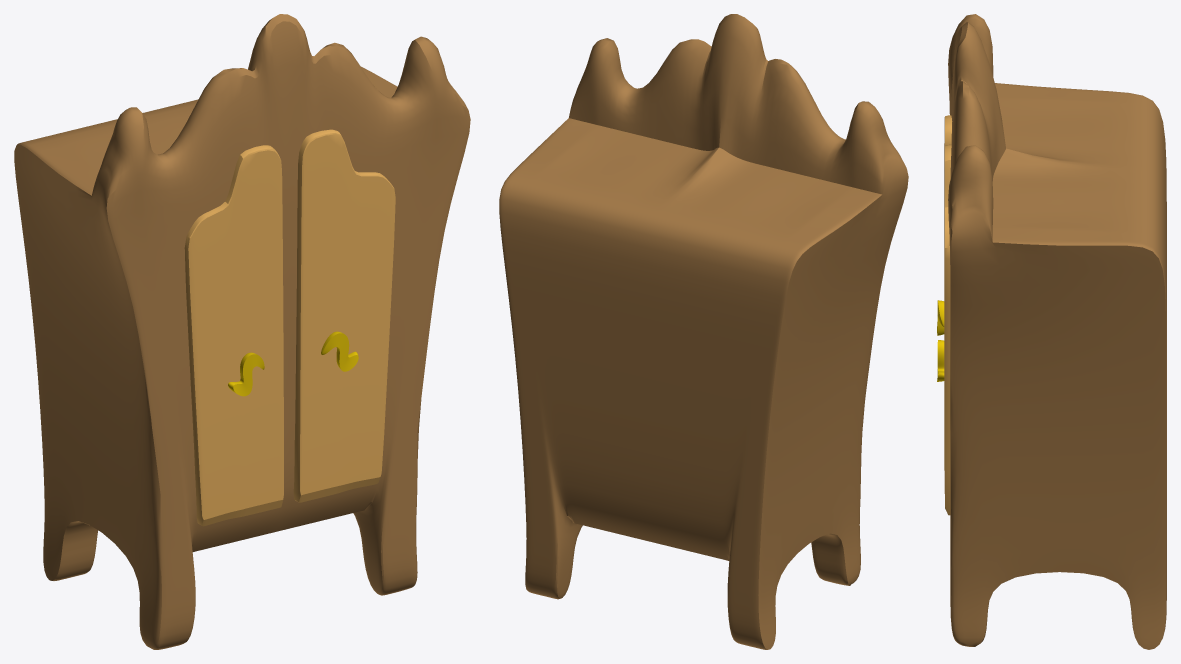
The model's file is grandearmoire_highpoly_placeholder.fbx.
The picture shows the model from 3 angles, left to right: view 1: azimuth 30°, elevation 25°; view 2: azimuth 150°, elevation 25°; view 3: azimuth 270°, elevation 25°; orthographic projection. The views are drawn at different scales.
Parts seen in each view (by area): view 1: grande_armoire_high.002; view 2: grande_armoire_high.002; view 3: grande_armoire_high.002.
Boxes of the visible parts, <box> form: grande_armoire_high.002: <box>14,14,470,649</box>; grande_armoire_high.002: <box>499,14,908,649</box>; grande_armoire_high.002: <box>937,14,1166,649</box>.
Size of the model in its own units: 176 by 279 by 103.
